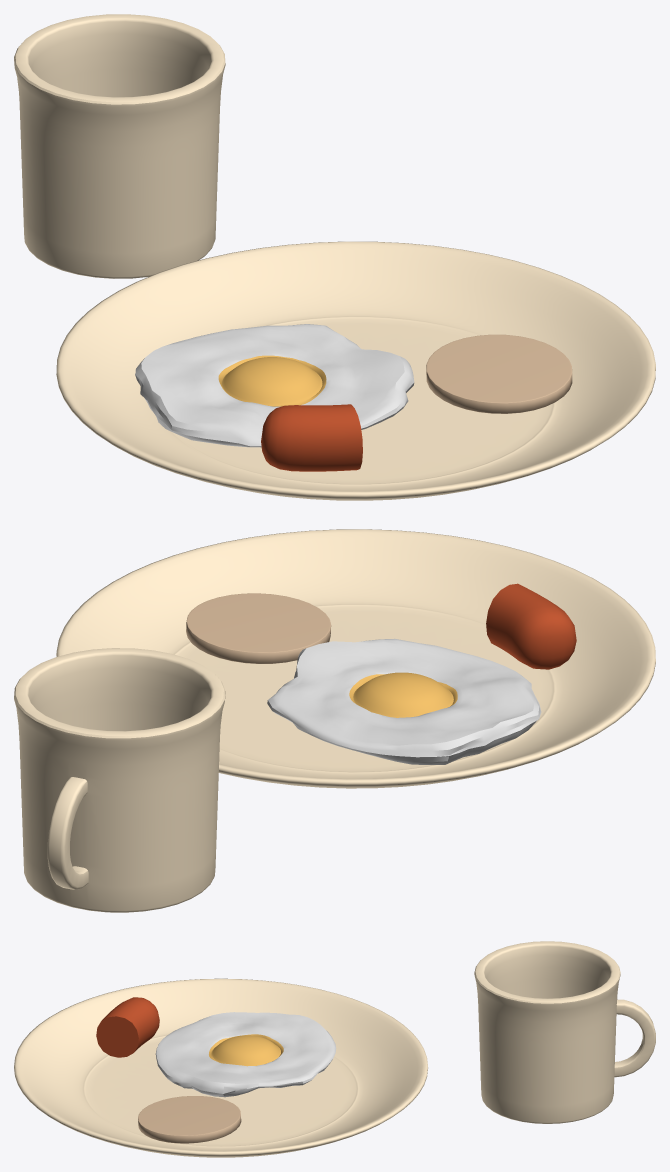
The model's file is Desyunomediolleno.fbx.
3 renders of one model, top to bottom at view 1: azimuth 30°, elevation 25°; view 2: azimuth 150°, elevation 25°; view 3: azimuth 270°, elevation 25°, orthographic. The views are drawn at different scales.
Parts seen in each view (by area): view 1: Plato, Taza, Huevo2, Arepa2, Salchicha; view 2: Plato, Taza, Huevo2, Arepa2, Salchicha; view 3: Plato, Taza, Huevo2, Arepa2, Salchicha.
Part boxes in pixels (x1=…): Plato: x1=56, y1=241, x2=655, y2=500; Taza: x1=14, y1=14, x2=225, y2=278; Huevo2: x1=135, y1=324, x2=414, y2=447; Arepa2: x1=426, y1=334, x2=572, y2=413; Salchicha: x1=261, y1=404, x2=362, y2=471; Plato: x1=56, y1=529, x2=655, y2=788; Taza: x1=14, y1=648, x2=225, y2=912; Huevo2: x1=267, y1=638, x2=541, y2=764; Arepa2: x1=186, y1=593, x2=331, y2=663; Salchicha: x1=486, y1=583, x2=576, y2=669; Plato: x1=14, y1=978, x2=427, y2=1157; Taza: x1=474, y1=941, x2=655, y2=1123; Huevo2: x1=155, y1=1012, x2=336, y2=1097; Arepa2: x1=138, y1=1096, x2=241, y2=1143; Salchicha: x1=96, y1=997, x2=159, y2=1057.
Bounding box in the file's own units: 597 × 202 × 926.
